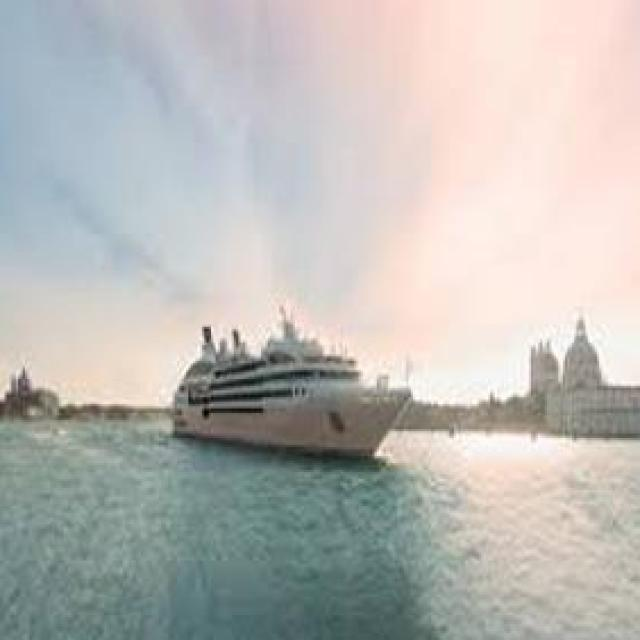passenger ship: (162, 303, 415, 459)
